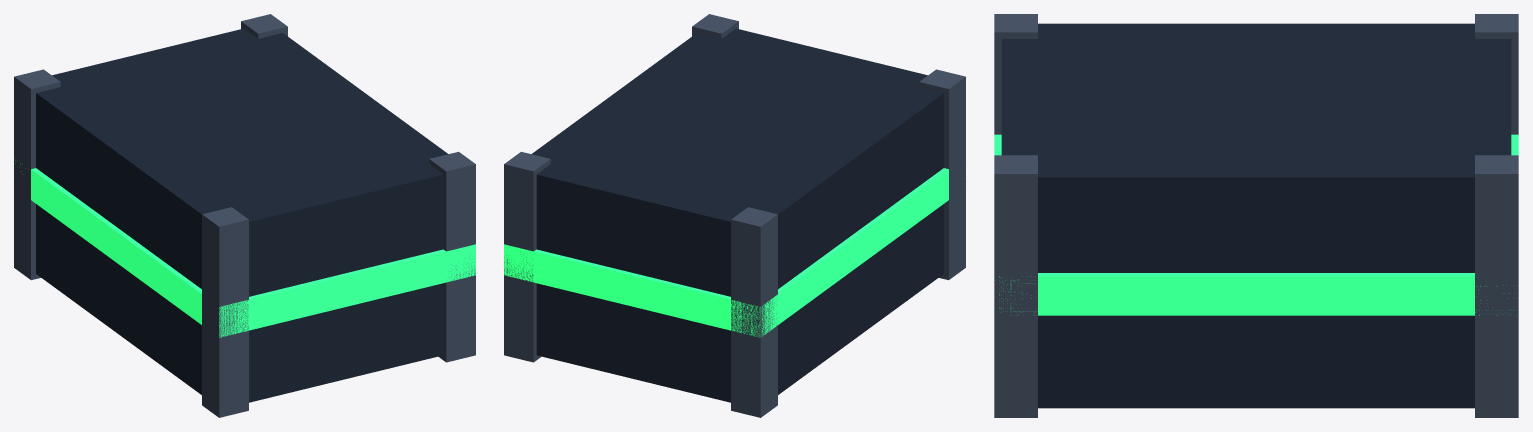
Rendered from skin_crate.glb.
The picture shows the model from 3 angles, left to right: view 1: azimuth 30°, elevation 25°; view 2: azimuth 150°, elevation 25°; view 3: azimuth 270°, elevation 25°; orthographic projection. The views are drawn at different scales.
Visible parts, largest first — view 1: Skin_Crate; view 2: Skin_Crate; view 3: Skin_Crate.
Boxes of the visible parts, x1,y1,x2,y2 form: Skin_Crate: (14,14,475,417); Skin_Crate: (504,14,965,417); Skin_Crate: (994,14,1518,417).
Size of the model in its own units: 1.04 by 0.74 by 1.44.
